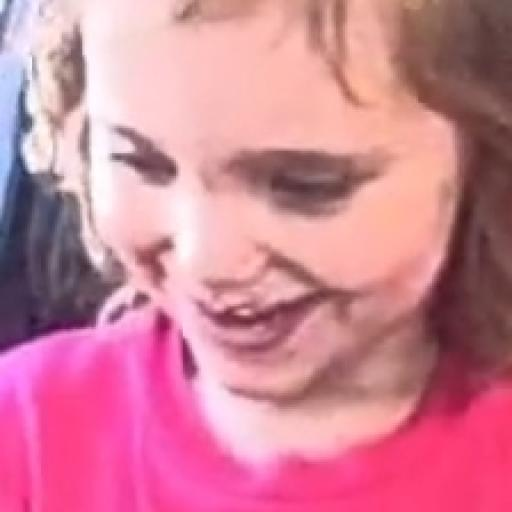Autism: (38, 10, 512, 450)
